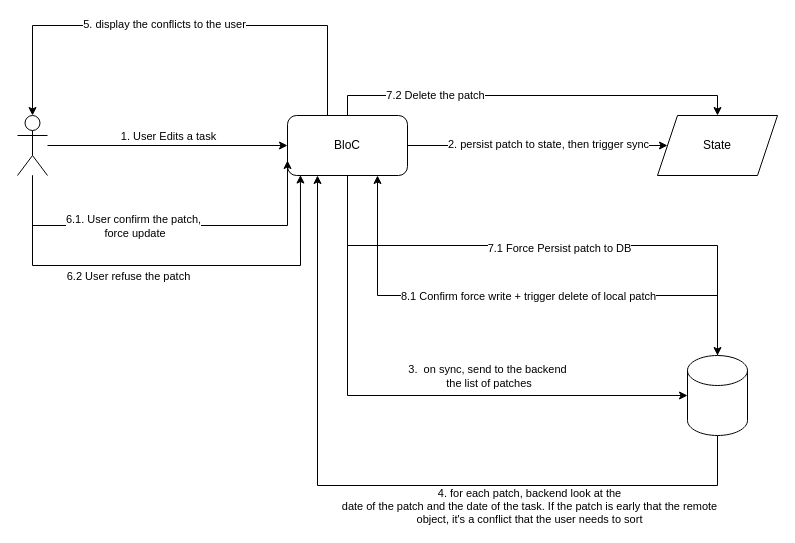
The diagram is 795 pixels wide and 543 high, and some of its shapes have lost their labels. Here are the shapes that lost their labels. From the top down, the centre of each, then its label:
point (32, 145): User
point (717, 395): Backend
